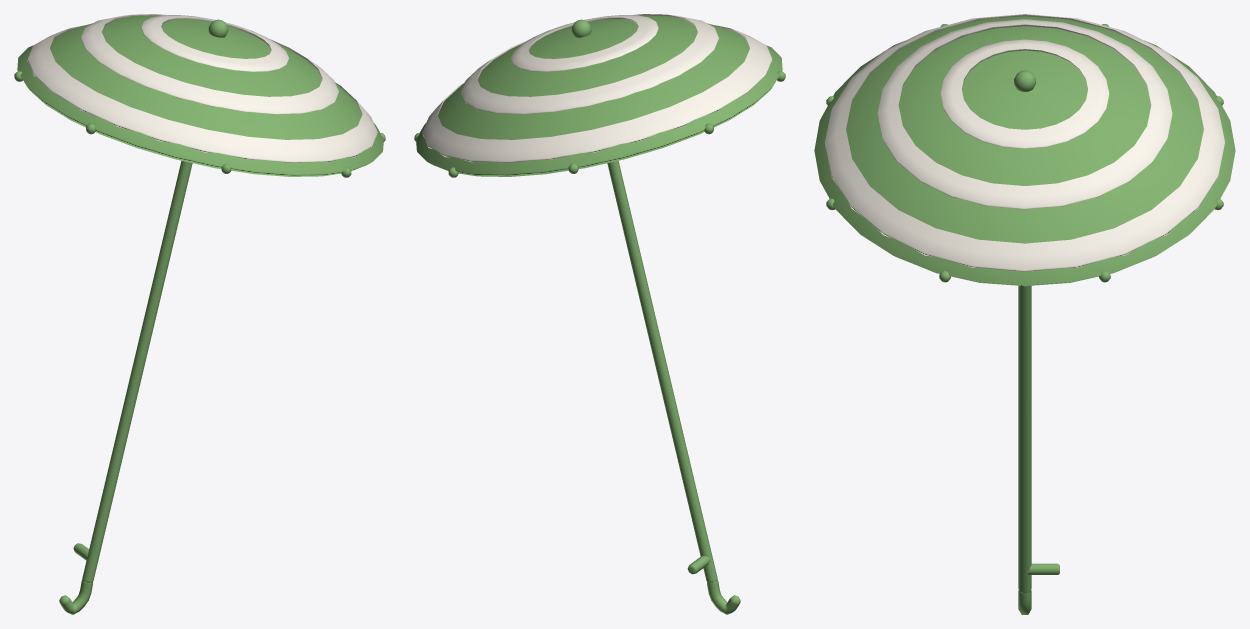
File: melon_umbrella.glb
3 views of the same model, side by side, from view 1: azimuth 30°, elevation 25°; view 2: azimuth 150°, elevation 25°; view 3: azimuth 270°, elevation 25° (orthographic). The views are drawn at different scales.
Visible parts, largest first — view 1: melon_umbrella_ArmR; view 2: melon_umbrella_ArmR; view 3: melon_umbrella_ArmR.
Boxes of the visible parts, x1=… form: melon_umbrella_ArmR: x1=14, y1=14, x2=385, y2=614; melon_umbrella_ArmR: x1=414, y1=14, x2=785, y2=614; melon_umbrella_ArmR: x1=814, y1=14, x2=1235, y2=614.
Size of the model in its own units: 0.8703 by 1.47 by 0.9.
